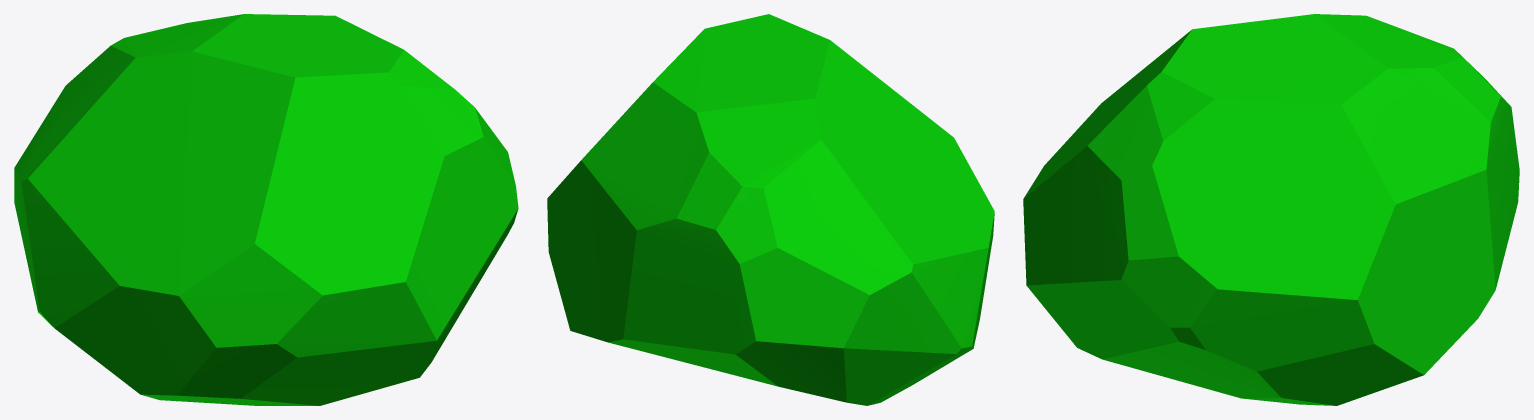
Rendered from UCX_tsumiishi2r.fbx.
3 renders of one model, left to right at view 1: azimuth 30°, elevation 25°; view 2: azimuth 150°, elevation 25°; view 3: azimuth 270°, elevation 25°, orthographic. The views are drawn at different scales.
Parts seen in each view (by area): view 1: UCX_tsumiishi2r_low; view 2: UCX_tsumiishi2r_low; view 3: UCX_tsumiishi2r_low.
Part boxes in pixels (box(x1,y1,x2,y2)): UCX_tsumiishi2r_low: box(14, 14, 518, 405); UCX_tsumiishi2r_low: box(547, 14, 994, 405); UCX_tsumiishi2r_low: box(1023, 14, 1519, 405).
Size of the model in its own units: 0.0814 by 0.0618 by 0.0815.
